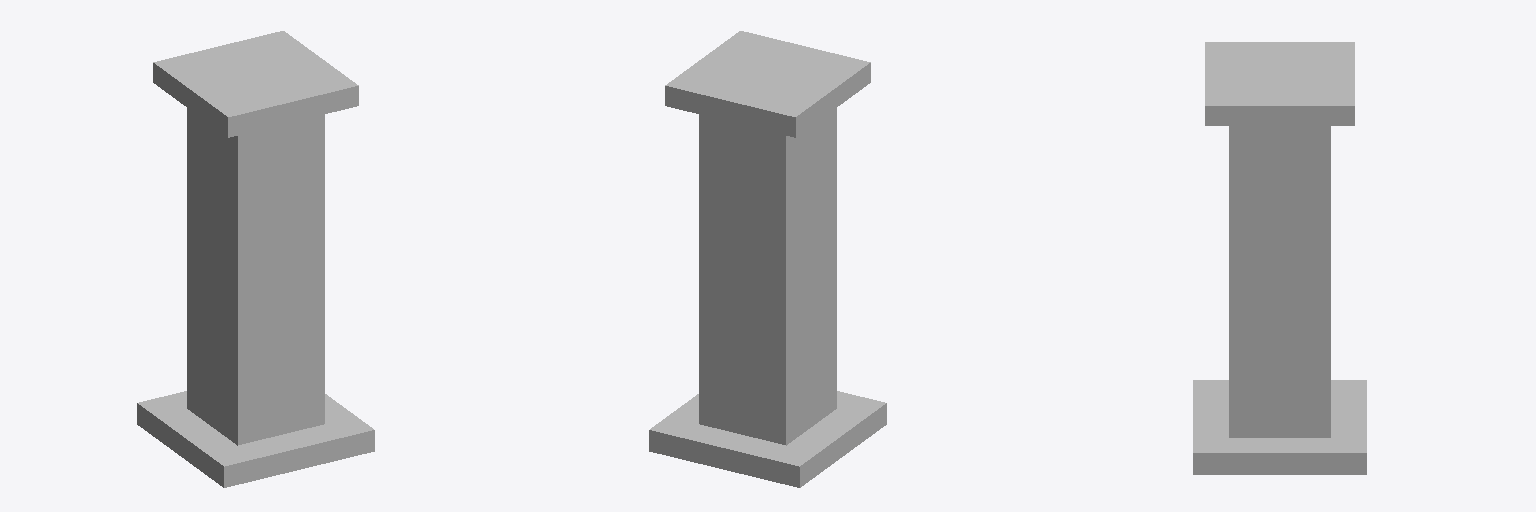
File: pillar3.obj
The picture shows the model from 3 angles: view 1: azimuth 30°, elevation 25°; view 2: azimuth 150°, elevation 25°; view 3: azimuth 270°, elevation 25°; orthographic projection.
Visible parts, largest first — view 1: Plane; view 2: Plane; view 3: Plane.
Boxes of the visible parts, x1,y1,x2,y2 form: Plane: [137, 31, 374, 487]; Plane: [649, 31, 886, 487]; Plane: [1193, 42, 1366, 474].
Bounding box in the file's own units: 0.4338 × 1 × 0.4338.